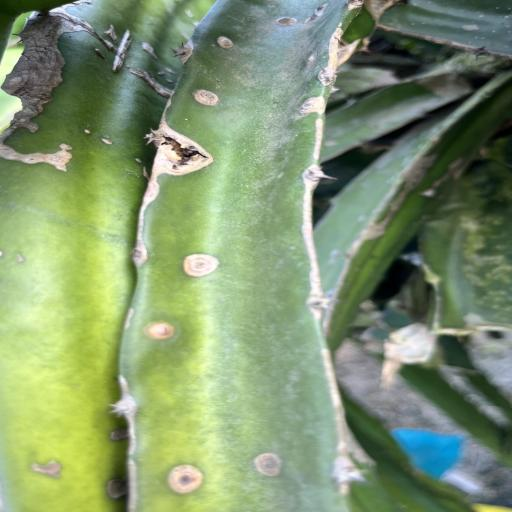stemcanker: (128, 314, 210, 347), (20, 449, 78, 489), (68, 119, 150, 144), (96, 471, 142, 504), (0, 242, 46, 274), (144, 316, 182, 344), (94, 414, 128, 442), (136, 320, 180, 341), (116, 148, 155, 171), (150, 65, 179, 84), (305, 3, 329, 24), (98, 130, 122, 151), (297, 44, 321, 64), (6, 251, 34, 266), (84, 124, 94, 138), (184, 115, 198, 125), (132, 154, 143, 164), (82, 128, 93, 136), (132, 157, 143, 164)
